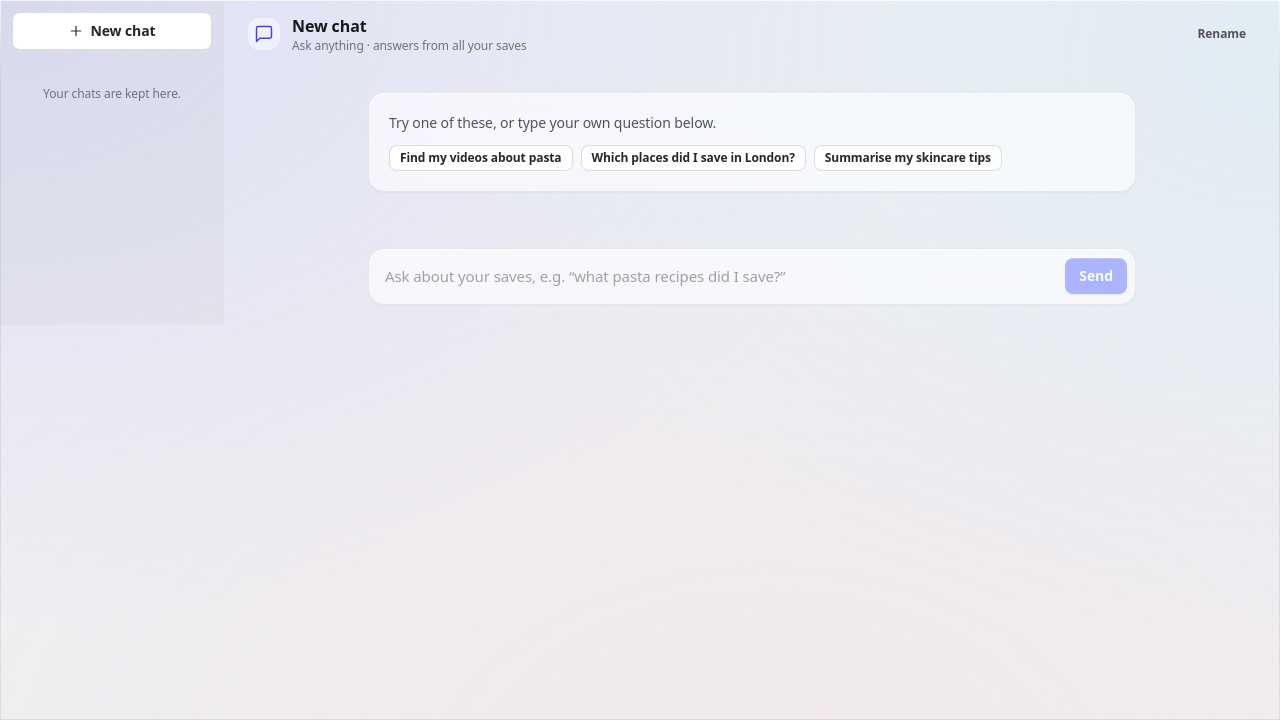
Test: an AI that isn't ready points to the AI settings and keeps what you typed
The image size is (1280, 720).
Type "pasta?" into the field named "Your message" at [721, 276], box [385,257,1057,296]
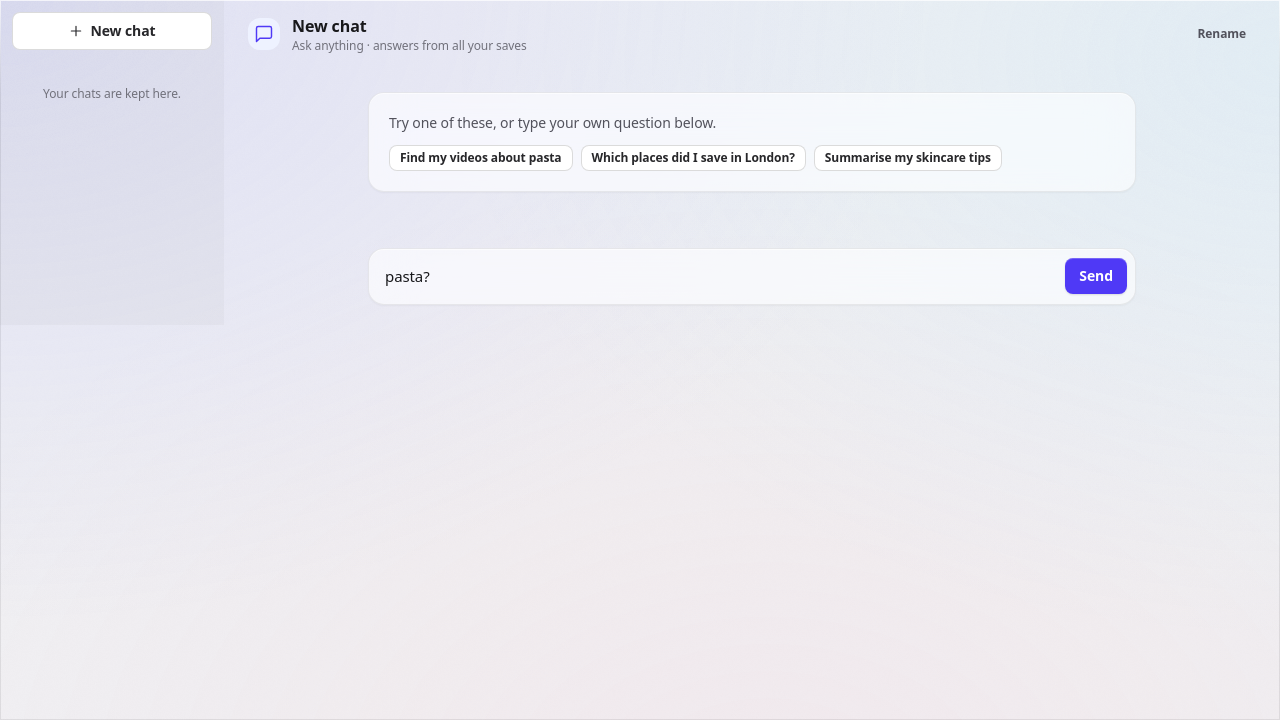
Click the button "Send" at [1096, 276], box [1065,258,1127,294]
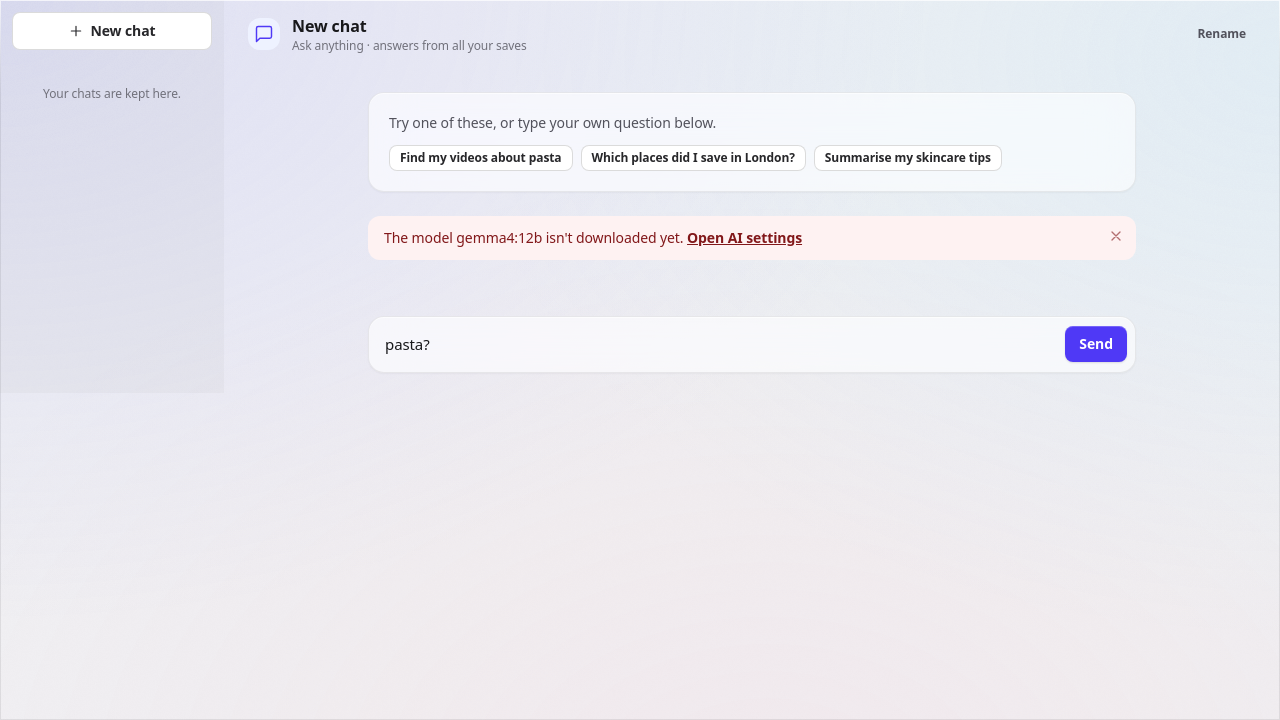
Expected: the text "The model gemma4:12b isn't downloaded yet. Open AI settings" is shown, [368,216,1136,260]
